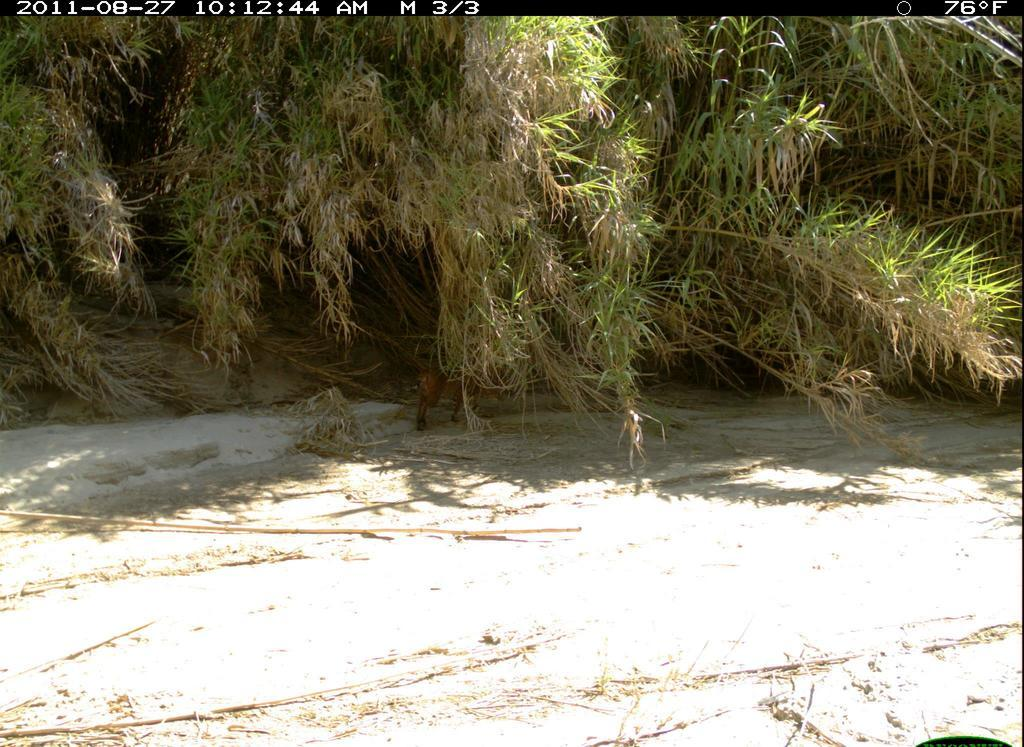bobcat: (404, 335, 513, 432)
